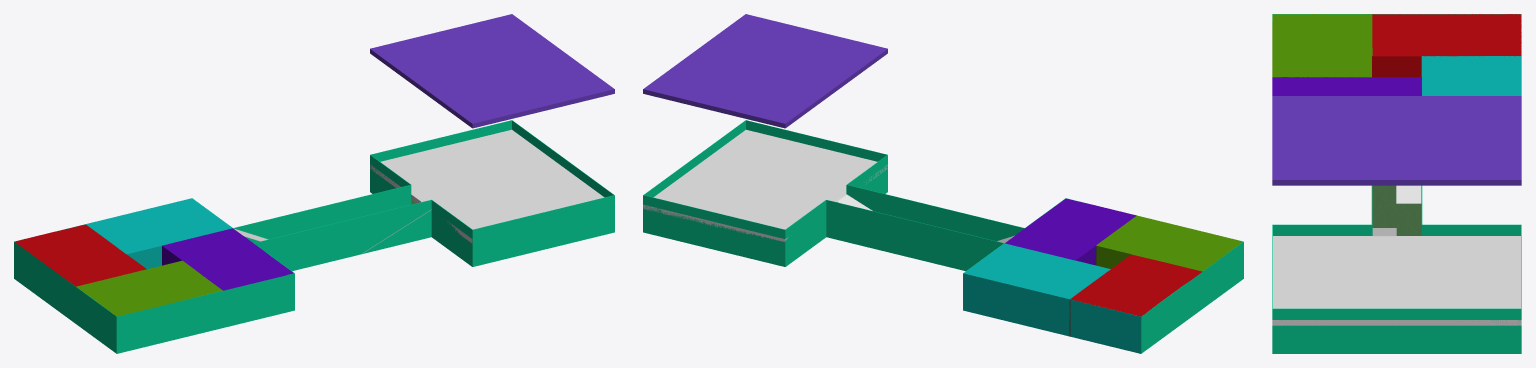
File: walls3.glb
The picture shows the model from 3 angles, left to right: view 1: azimuth 30°, elevation 25°; view 2: azimuth 150°, elevation 25°; view 3: azimuth 270°, elevation 25°; orthographic projection. The views are drawn at different scales.
Parts seen in each view (by area): view 1: Cube.006, Cube.001, Cube.018, Cube.008, Cube.005, FloorBaseGrass_01.004, FloorBaseGrass_01.002, FloorBaseGrass_01.001, FloorBaseGrass_01.003, Cube.015, Cube.002, Cube.009 (+4 smaller); view 2: Cube.006, Cube.001, Cube.014, Cube.002, Cube.003, FloorBaseGrass_01.004, FloorBaseGrass_01.001, FloorBaseGrass_01.003, FloorBaseGrass_01.002, Cube.015, Cube.008, Cube.007 (+4 smaller); view 3: Cube.006, Cube.001, Cube.004, FloorBaseGrass_01.004, FloorBaseGrass_01.002, FloorBaseGrass_01.003, FloorBaseGrass_01.001, FloorBaseGrass_01, Cube.009, Cube.007, Cube.020, Cube (+2 smaller).
Part boxes in pixels (bbox=[...]): Cube.006: bbox=[370, 14, 614, 128]; Cube.001: bbox=[370, 129, 604, 243]; Cube.018: bbox=[116, 273, 294, 353]; Cube.008: bbox=[254, 200, 431, 271]; Cube.005: bbox=[472, 195, 614, 266]; FloorBaseGrass_01.004: bbox=[76, 260, 222, 316]; FloorBaseGrass_01.002: bbox=[14, 224, 146, 286]; FloorBaseGrass_01.001: bbox=[162, 228, 293, 290]; FloorBaseGrass_01.003: bbox=[86, 198, 232, 254]; Cube.015: bbox=[14, 242, 117, 353]; Cube.002: bbox=[233, 185, 410, 242]; Cube.009: bbox=[431, 199, 472, 266]; Cube.006: bbox=[643, 14, 887, 128]; Cube.001: bbox=[643, 129, 887, 241]; Cube.014: bbox=[963, 273, 1141, 353]; Cube.002: bbox=[826, 200, 1003, 271]; Cube.003: bbox=[643, 195, 785, 266]; FloorBaseGrass_01.004: bbox=[1096, 215, 1242, 271]; FloorBaseGrass_01.001: bbox=[1005, 198, 1136, 260]; FloorBaseGrass_01.003: bbox=[964, 243, 1110, 299]; FloorBaseGrass_01.002: bbox=[1070, 254, 1202, 316]; Cube.015: bbox=[1140, 241, 1243, 353]; Cube.008: bbox=[847, 185, 1024, 241]; Cube.007: bbox=[785, 200, 826, 266]; Cube.006: bbox=[1272, 96, 1521, 185]; Cube.001: bbox=[1272, 236, 1521, 325]; Cube.004: bbox=[1272, 308, 1521, 353]; FloorBaseGrass_01.004: bbox=[1272, 14, 1371, 77]; FloorBaseGrass_01.002: bbox=[1372, 14, 1521, 55]; FloorBaseGrass_01.003: bbox=[1422, 56, 1521, 95]; FloorBaseGrass_01.001: bbox=[1272, 77, 1421, 95]; FloorBaseGrass_01: bbox=[1372, 185, 1421, 235]; Cube.009: bbox=[1273, 224, 1372, 235]; Cube.007: bbox=[1422, 224, 1521, 235]; Cube.020: bbox=[1372, 56, 1421, 77]; Cube: bbox=[1396, 185, 1421, 203].
Size of what is drawn, in the model's own units: 224 by 61.84 by 80.
28 materials, 2 textured.
